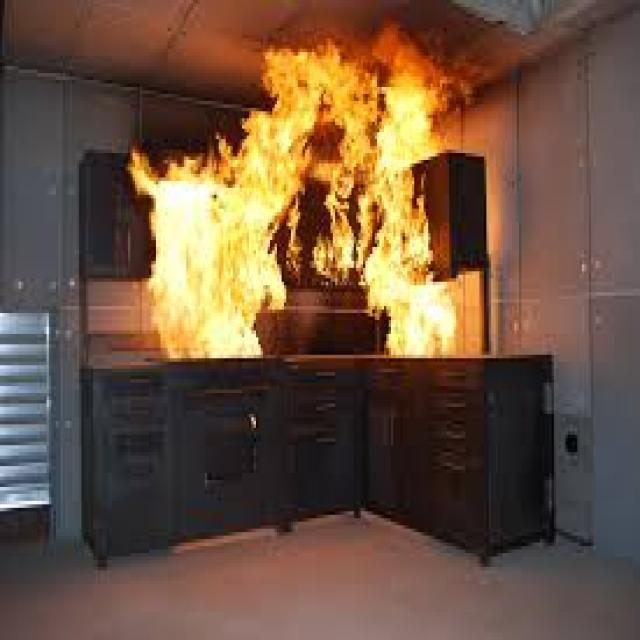Fire: (124, 21, 462, 362)
